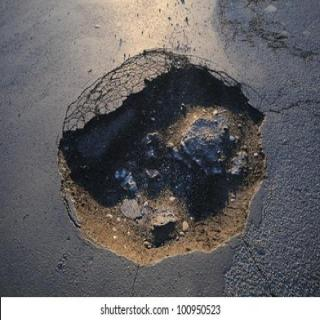pothole: (56, 48, 267, 268)
